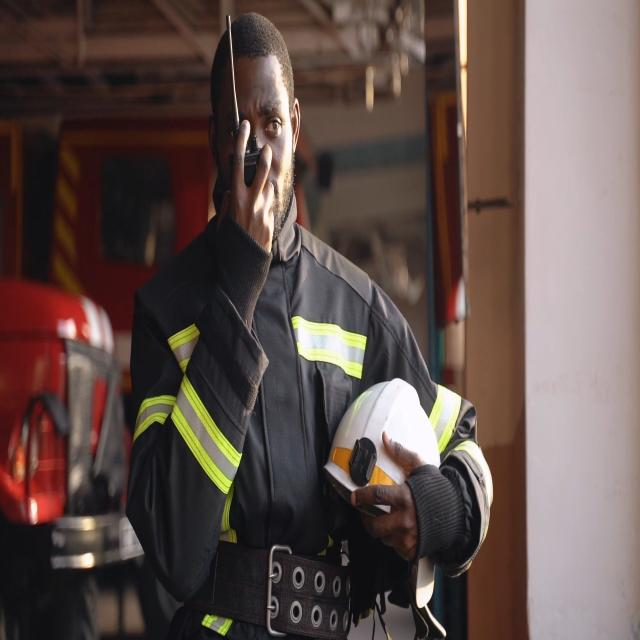Jacket_Wearer: (135, 200, 486, 640)
Person: (133, 4, 501, 640)
